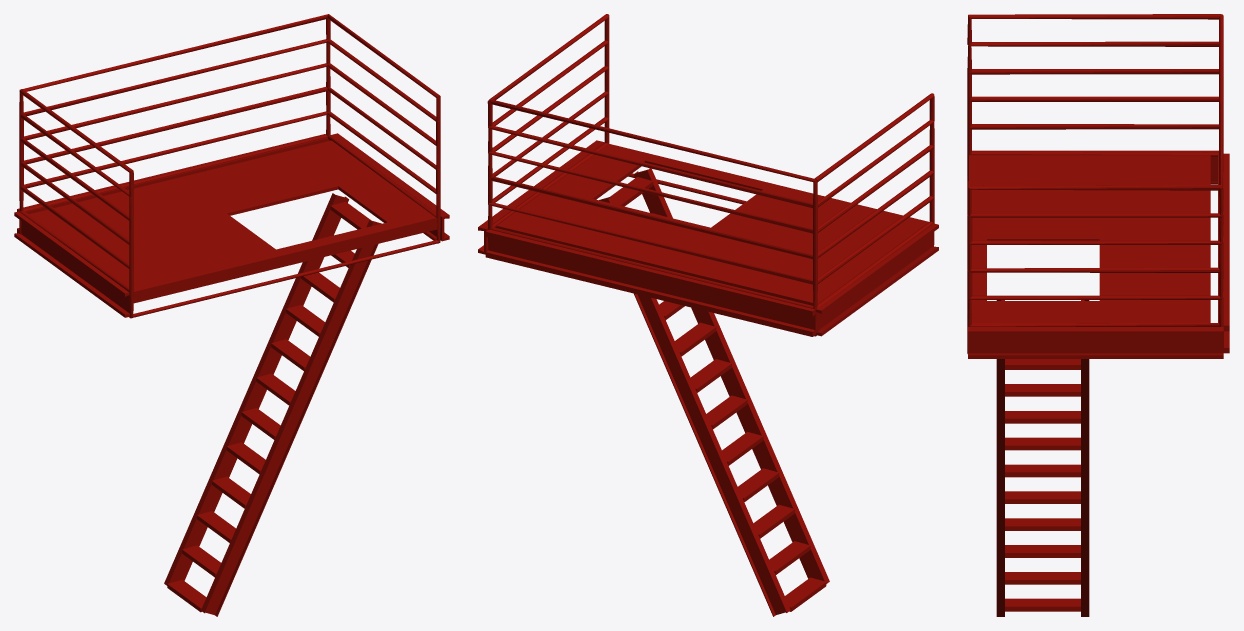
Rendered from fire-escape.fbx.
3 renders of one model, left to right at view 1: azimuth 30°, elevation 25°; view 2: azimuth 150°, elevation 25°; view 3: azimuth 270°, elevation 25°, orthographic. The views are drawn at different scales.
Parts seen in each view (by area): view 1: Fire Escape; view 2: Fire Escape; view 3: Fire Escape.
Boxes of the visible parts, x1,y1,x2,y2 form: Fire Escape: (14,14,449,616); Fire Escape: (478,14,938,616); Fire Escape: (967,14,1229,616).
Size of the model in its own units: 211 by 299 by 130.
